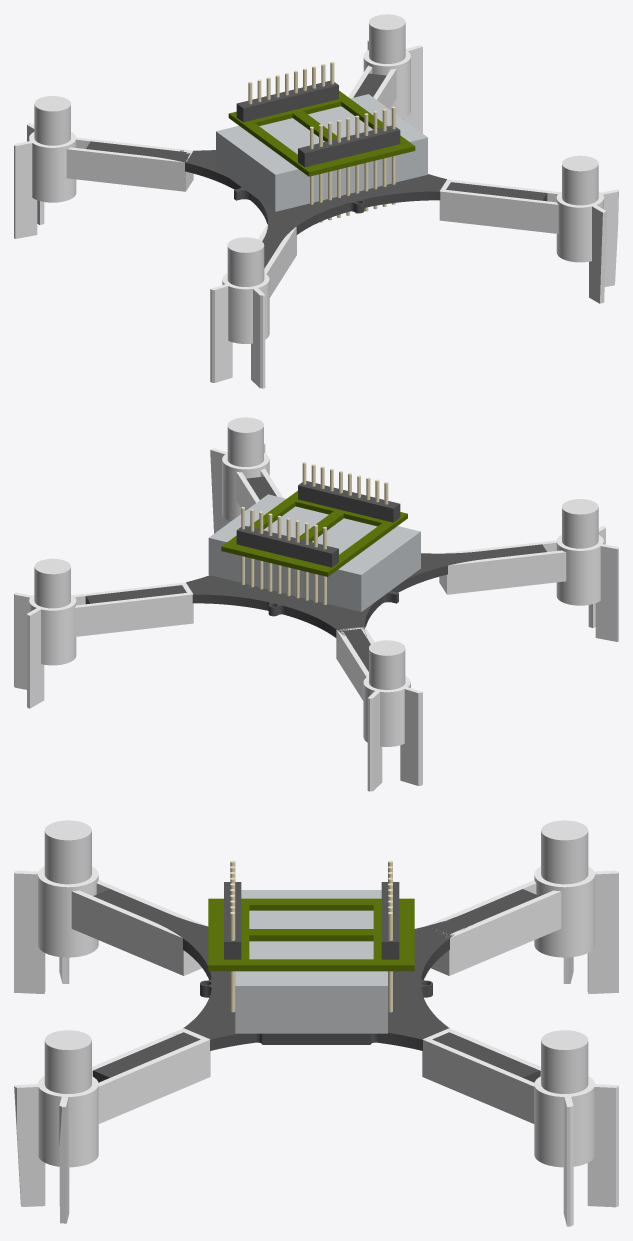
Rendered from cf2withoutRotors.dae.
3 views of the same model, one above another, from view 1: azimuth 30°, elevation 25°; view 2: azimuth 150°, elevation 25°; view 3: azimuth 270°, elevation 25° (orthographic). The views are drawn at different scales.
Visible parts, largest first — view 1: Part1, MotorMountsSlanted_006, pcb, MotorMountsSlanted_003, MotorMountsSlanted_004, MotorMountsSlanted_001, Part3, MotorMountsSlanted_005, Part5_001, Part5, Motors2_002, Motors2_001 (+4 smaller); view 2: Part1, pcb, MotorMountsSlanted_004, MotorMountsSlanted_005, MotorMountsSlanted_003, MotorMountsSlanted_002, MotorMountsSlanted, Part3, MotorMountsSlanted_006, Part5_001, Part5, Motors2_003 (+4 smaller); view 3: Part1, pcb, MotorMountsSlanted_006, Part3, MotorMountsSlanted_005, MotorMountsSlanted_003, MotorMountsSlanted_004, MotorMountsSlanted_001, MotorMountsSlanted_002, MotorMountsSlanted, Motors2, Motors2_002 (+4 smaller).
Boxes of the visible parts, x1=… form: Part1: x1=216, y1=94, x2=427, y2=211; MotorMountsSlanted_006: x1=439, y1=179, x2=618, y2=303; pcb: x1=86, y1=73, x2=547, y2=268; MotorMountsSlanted_003: x1=210, y1=273, x2=269, y2=388; MotorMountsSlanted_004: x1=14, y1=123, x2=76, y2=238; MotorMountsSlanted_001: x1=66, y1=137, x2=193, y2=191; Part3: x1=228, y1=90, x2=415, y2=176; MotorMountsSlanted_005: x1=363, y1=40, x2=422, y2=133; Part5_001: x1=236, y1=81, x2=338, y2=122; Part5: x1=298, y1=125, x2=400, y2=167; Motors2_002: x1=227, y1=237, x2=264, y2=286; Motors2_001: x1=562, y1=155, x2=598, y2=205; Part1: x1=208, y1=494, x2=420, y2=611; pcb: x1=85, y1=476, x2=546, y2=671; MotorMountsSlanted_004: x1=363, y1=676, x2=422, y2=791; MotorMountsSlanted_005: x1=14, y1=592, x2=76, y2=708; MotorMountsSlanted_003: x1=556, y1=526, x2=618, y2=641; MotorMountsSlanted_002: x1=439, y1=540, x2=566, y2=594; MotorMountsSlanted: x1=73, y1=582, x2=193, y2=636; Part3: x1=221, y1=491, x2=407, y2=576; MotorMountsSlanted_006: x1=210, y1=443, x2=283, y2=533; Part5_001: x1=236, y1=526, x2=338, y2=567; Part5: x1=298, y1=481, x2=400, y2=522; Motors2_003: x1=34, y1=558, x2=70, y2=608; Part1: x1=235, y1=890, x2=387, y2=1033; pcb: x1=93, y1=889, x2=539, y2=1082; MotorMountsSlanted_006: x1=14, y1=1028, x2=210, y2=1223; Part3: x1=208, y1=898, x2=414, y2=971; MotorMountsSlanted_005: x1=534, y1=1076, x2=618, y2=1226; MotorMountsSlanted_003: x1=14, y1=866, x2=98, y2=994; MotorMountsSlanted_004: x1=534, y1=866, x2=618, y2=994; MotorMountsSlanted_001: x1=424, y1=880, x2=561, y2=975; MotorMountsSlanted_002: x1=71, y1=880, x2=207, y2=975; MotorMountsSlanted: x1=422, y1=1028, x2=540, y2=1123; Motors2: x1=541, y1=820, x2=588, y2=884; Motors2_002: x1=44, y1=820, x2=91, y2=884.
Bounding box in the file's own units: 0.0796 × 0.0796 × 0.031.
